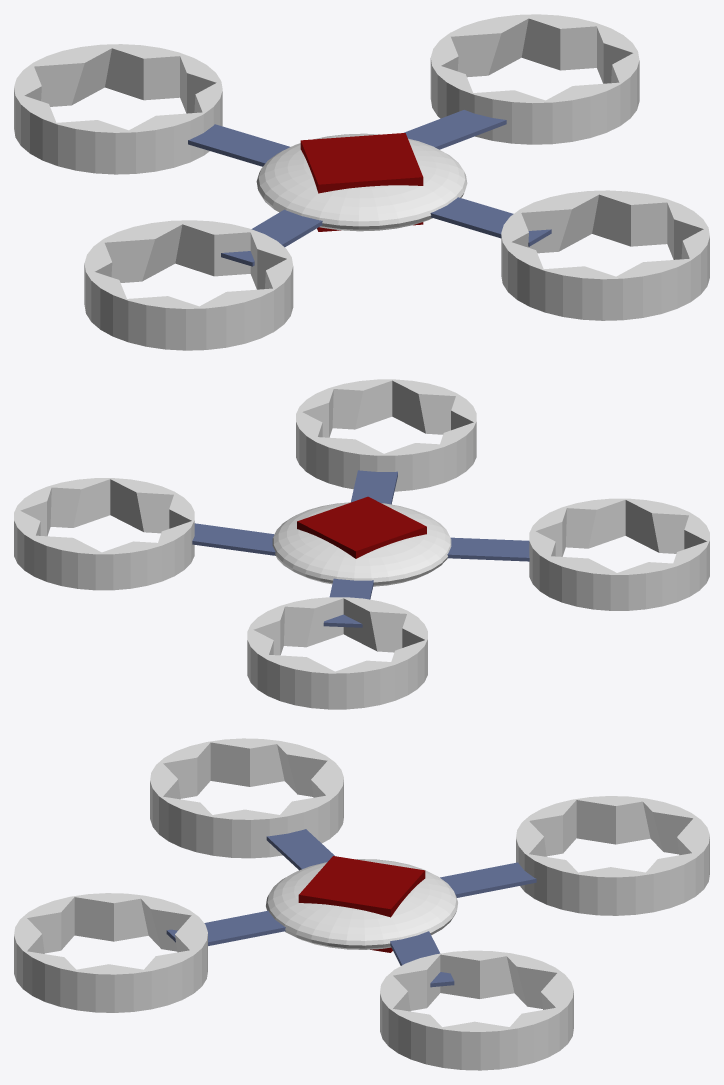
Rendered from droneanimate.fbx.
The picture shows the model from 3 angles, top to bottom: view 1: azimuth 30°, elevation 25°; view 2: azimuth 150°, elevation 25°; view 3: azimuth 270°, elevation 25°; orthographic projection. The views are drawn at different scales.
Parts seen in each view (by area): view 1: Cylinder.002, Cylinder.003, Cylinder, Cylinder.001, Sphere, Cube.005, Cube.004, Cube.001, Cube.003, Cube.002; view 2: Cylinder.003, Cylinder.001, Cylinder, Cylinder.002, Sphere, Cube.005, Cube.001, Cube.002, Cube.003, Cube.004; view 3: Cylinder.002, Cylinder.001, Cylinder, Cylinder.003, Sphere, Cube.005, Cube.004, Cube.003, Cube.002, Cube.001.
Boxes of the visible parts, x1=… form: Cylinder.002: x1=501, y1=190, x2=709, y2=320; Cylinder.003: x1=84, y1=220, x2=293, y2=350; Cylinder: x1=14, y1=44, x2=222, y2=174; Cylinder.001: x1=430, y1=14, x2=639, y2=144; Sphere: x1=256, y1=133, x2=467, y2=231; Cube.005: x1=300, y1=133, x2=423, y2=231; Cube.004: x1=188, y1=124, x2=289, y2=166; Cube.001: x1=404, y1=110, x2=506, y2=149; Cube.003: x1=430, y1=197, x2=551, y2=246; Cube.002: x1=221, y1=209, x2=322, y2=266; Cylinder.003: x1=529, y1=498, x2=709, y2=610; Cylinder.001: x1=14, y1=478, x2=194, y2=590; Cylinder: x1=247, y1=597, x2=427, y2=709; Cylinder.002: x1=296, y1=379, x2=476, y2=491; Sphere: x1=272, y1=502, x2=451, y2=586; Cube.005: x1=297, y1=496, x2=426, y2=558; Cube.001: x1=192, y1=523, x2=275, y2=555; Cube.002: x1=447, y1=537, x2=529, y2=561; Cube.003: x1=351, y1=470, x2=397, y2=504; Cube.004: x1=323, y1=578, x2=373, y2=627; Cylinder.002: x1=14, y1=893, x2=207, y2=1012; Cylinder.001: x1=380, y1=950, x2=573, y2=1070; Cylinder: x1=516, y1=796, x2=709, y2=915; Cylinder.003: x1=150, y1=738, x2=343, y2=858; Sphere: x1=266, y1=859, x2=457, y2=949; Cube.005: x1=298, y1=856, x2=425, y2=952; Cube.004: x1=440, y1=862, x2=536, y2=897; Cube.003: x1=166, y1=910, x2=285, y2=945; Cube.002: x1=266, y1=829, x2=334, y2=870; Cube.001: x1=390, y1=931, x2=454, y2=987.
Size of the model in its own units: 712 by 49.53 by 713.
